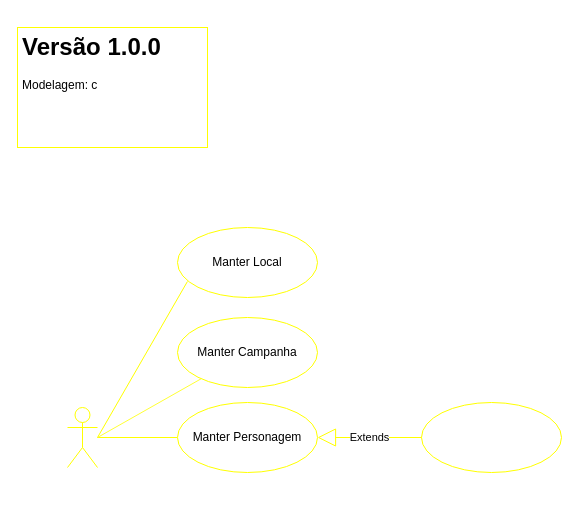
Some shapes in this 579 by 505 pixel diagram are drawn without their labels. Each missing label, with the centre of its shape:
DM: the point at 82,437
Filtrar personagens: the point at 491,437
